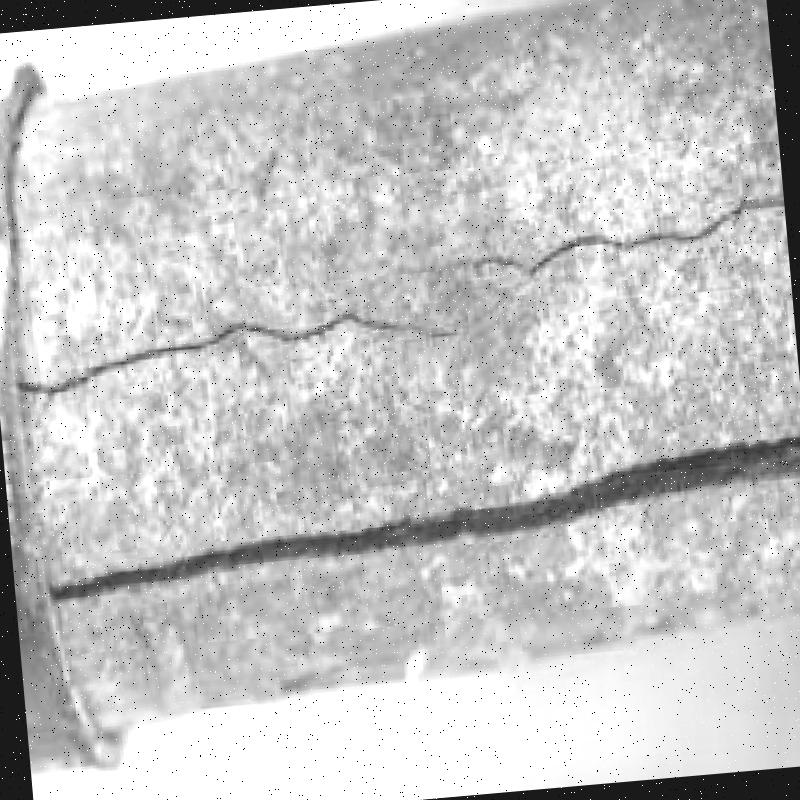Fracture: (54, 422, 800, 619), (12, 292, 442, 415), (491, 188, 789, 279)
